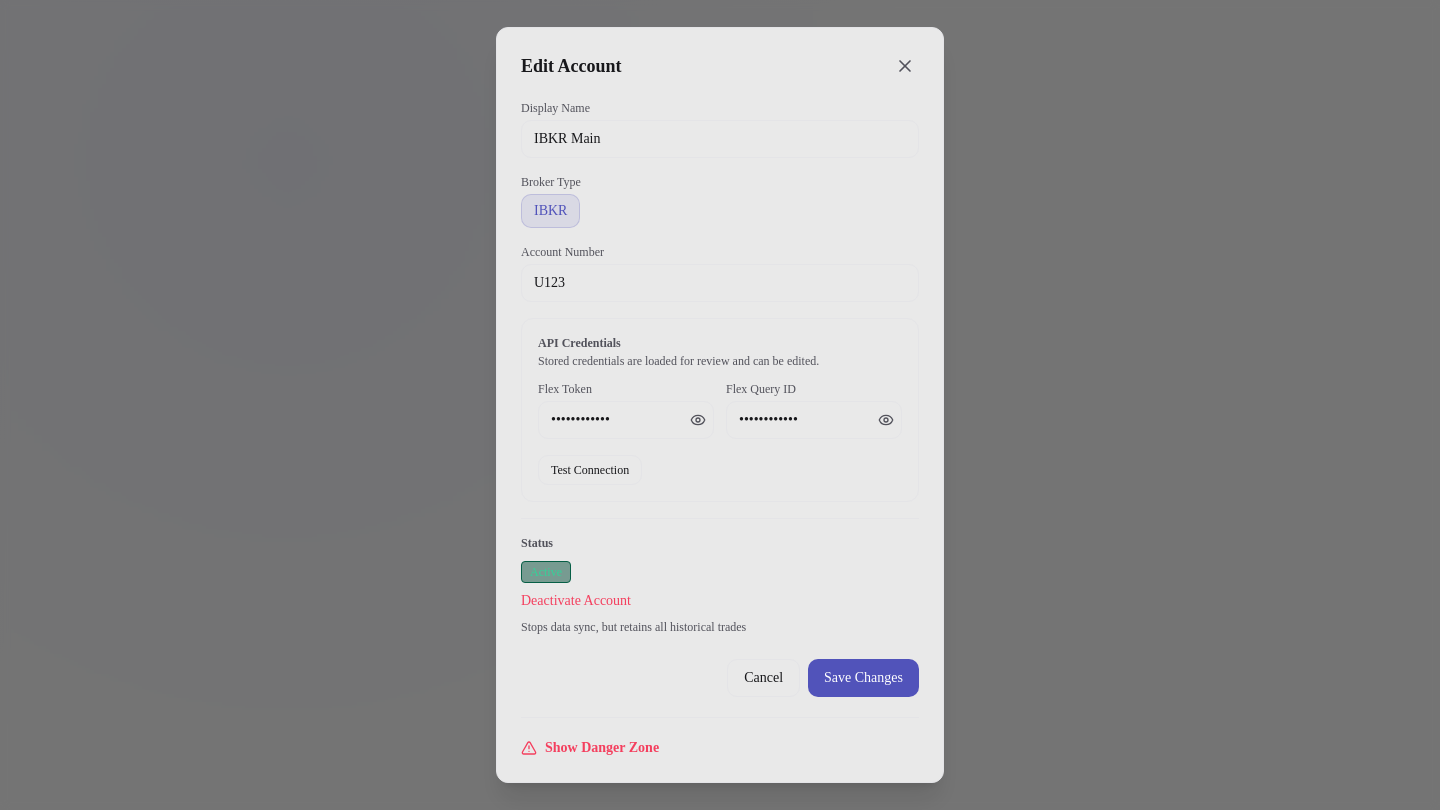
Test: BrokerAccountEditModal › loads stored credentials for review and masks them until explicitly revealed
Expected: the text "Stored credentials are loaded for review and can be edited." is shown, [538,354,819,368]
Expected: the password field labelled "Flex Token" holds "stored-token", [538,401,714,439]
Click the button named "Show Flex Token": (698, 420) [682,401,714,439]
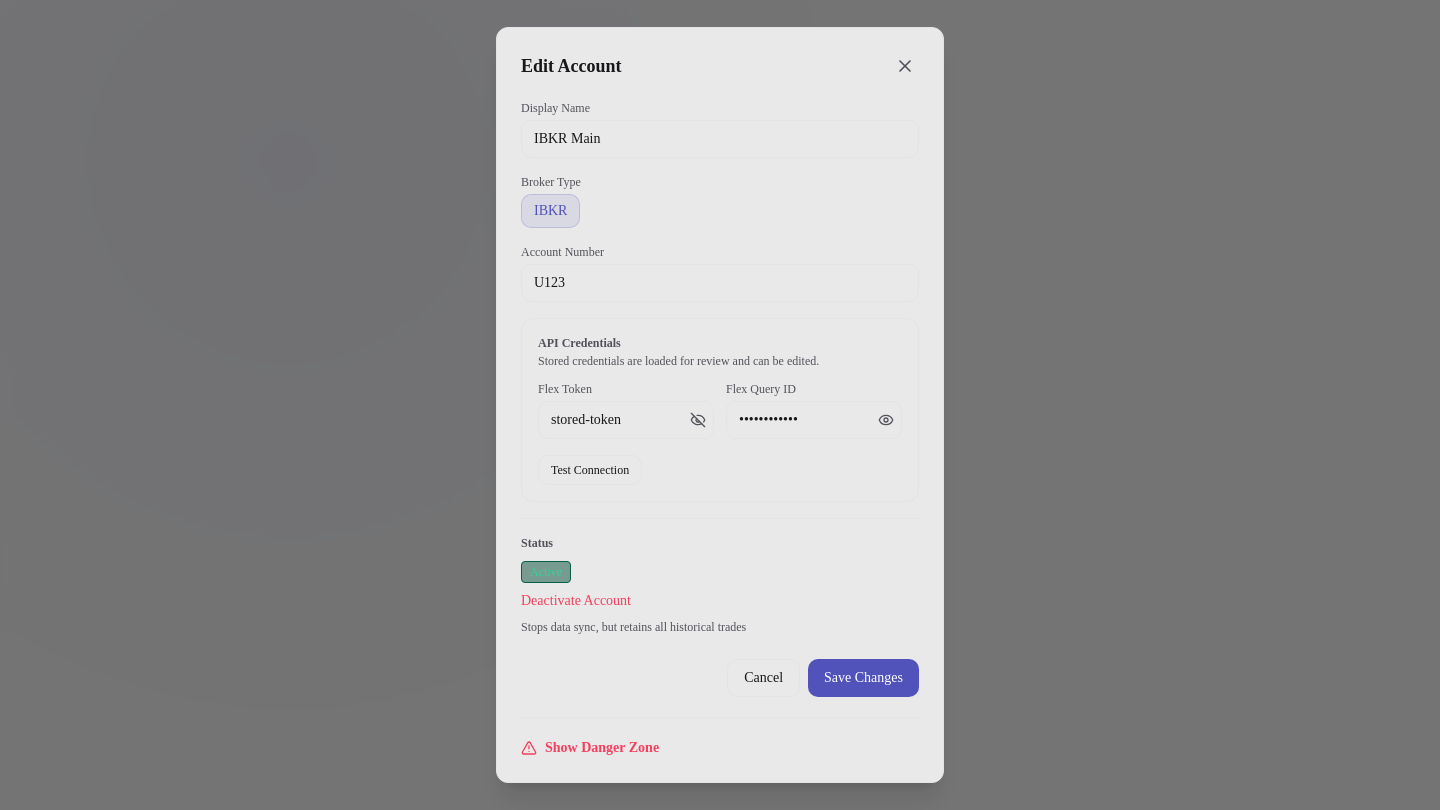
Now the field labelled "Flex Token" shows its text, box [538,401,714,439]
Click the button named "Hide Flex Token": (698, 420) [682,401,714,439]
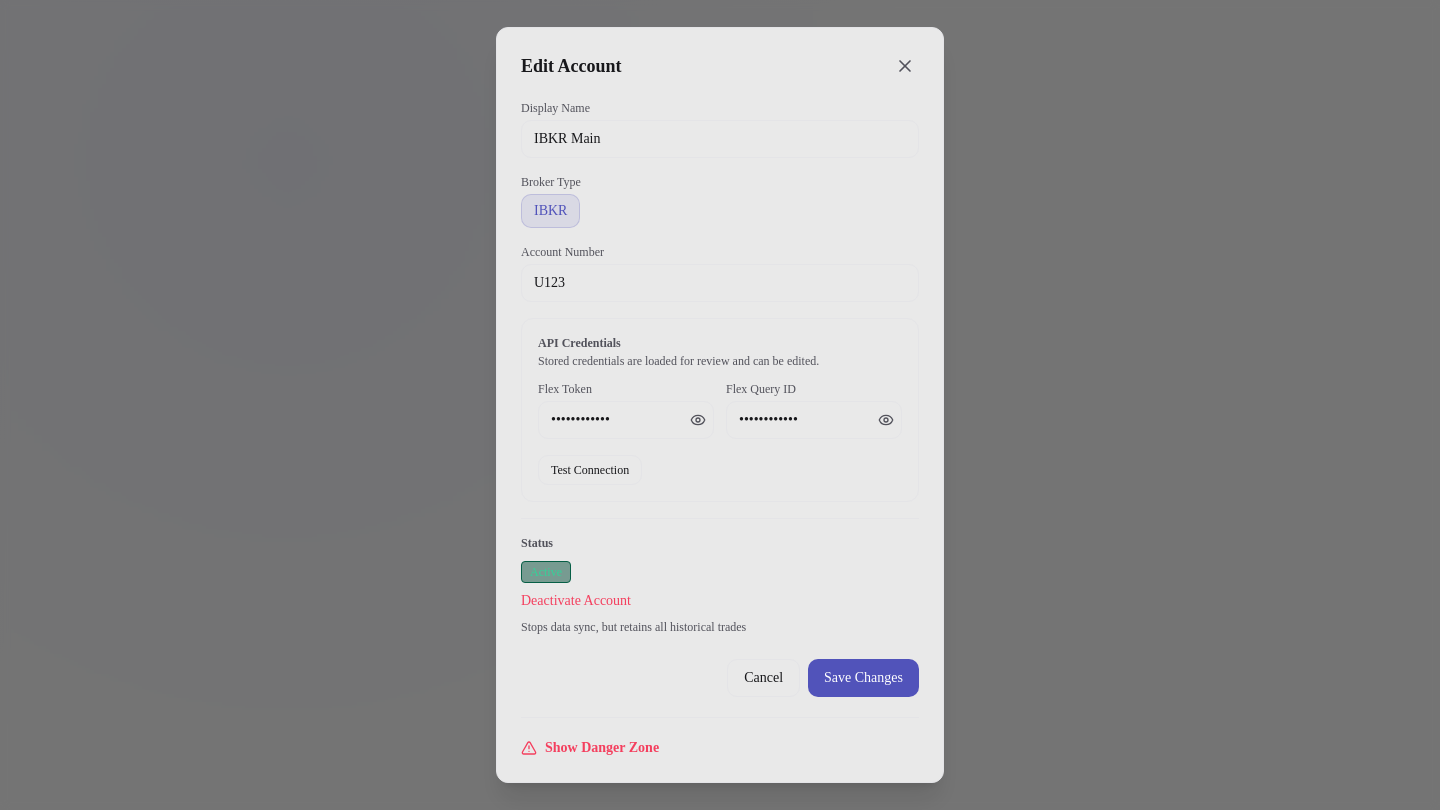
Now the password field labelled "Flex Token" hides its text, box [538,401,714,439]
